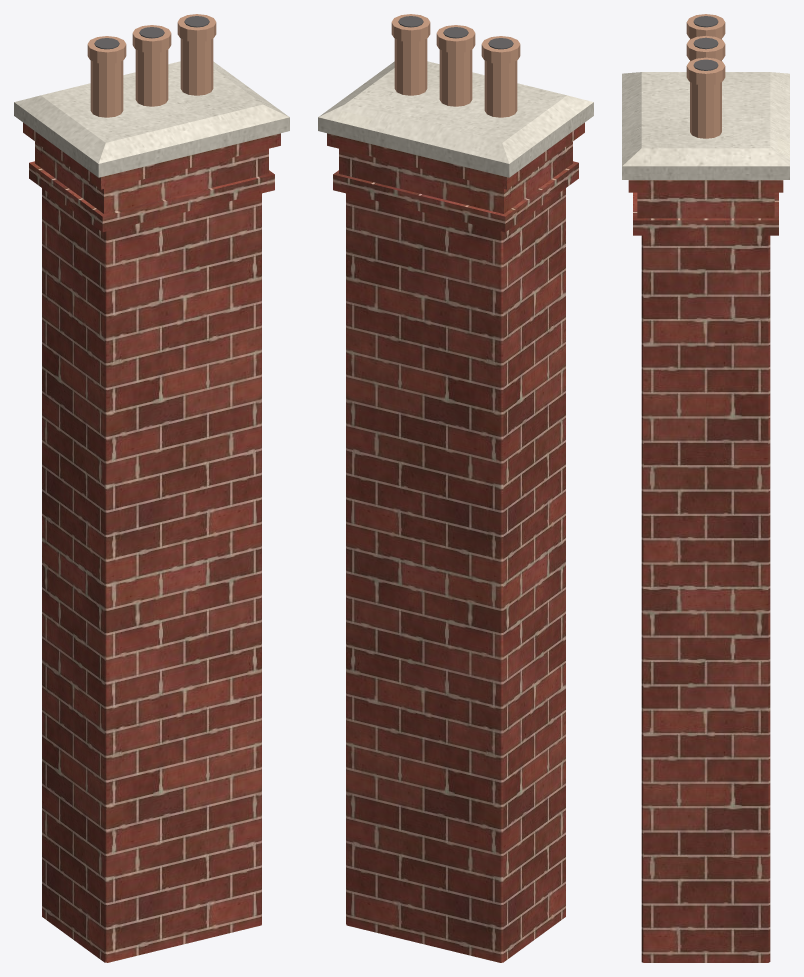
File: chimney.glb
The picture shows the model from 3 angles, left to right: view 1: azimuth 30°, elevation 25°; view 2: azimuth 150°, elevation 25°; view 3: azimuth 270°, elevation 25°; orthographic projection.
Parts seen in each view (by area): view 1: chimney_brick, chimney_trim, chimney_clay, chimney_dark; view 2: chimney_brick, chimney_trim, chimney_clay, chimney_dark; view 3: chimney_brick, chimney_trim, chimney_clay, chimney_dark.
Part boxes in pixels (<box>): chimney_brick: <box>23,122,280,962</box>; chimney_trim: <box>14,61,289,177</box>; chimney_clay: <box>87,14,216,117</box>; chimney_dark: <box>94,16,209,49</box>; chimney_brick: <box>327,122,584,962</box>; chimney_trim: <box>318,61,593,177</box>; chimney_clay: <box>391,14,520,117</box>; chimney_dark: <box>398,16,513,49</box>; chimney_brick: <box>628,180,783,962</box>; chimney_trim: <box>622,72,789,179</box>; chimney_clay: <box>686,14,725,138</box>; chimney_dark: <box>693,16,718,70</box>.
Size of the model in its own units: 1.02 by 4.53 by 0.78.
Materials: 4 (2 with a texture image).
